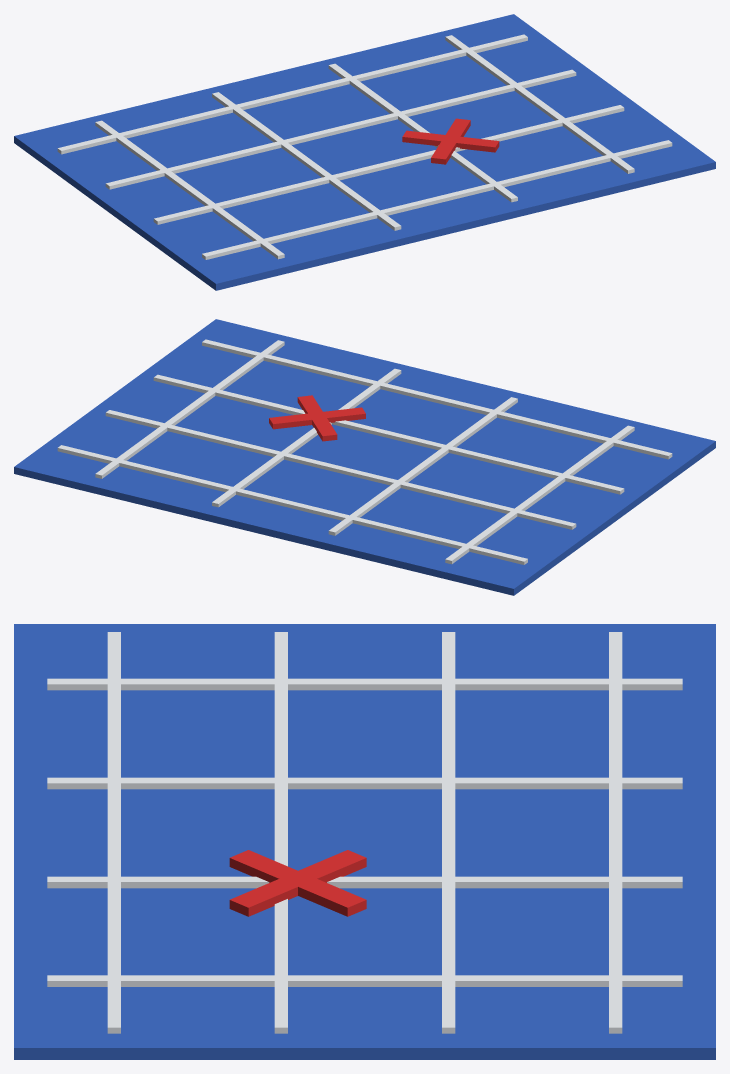
The model's file is ceiling_plan.glb.
The picture shows the model from 3 angles, top to bottom: view 1: azimuth 30°, elevation 25°; view 2: azimuth 150°, elevation 25°; view 3: azimuth 270°, elevation 25°; orthographic projection. The views are drawn at different scales.
Visible parts, largest first — view 1: sheet_plan_blue, grid_plan_white (×8), mark_plan_red (×2); view 2: sheet_plan_blue, grid_plan_white (×8), mark_plan_red (×2); view 3: sheet_plan_blue, grid_plan_white (×8), mark_plan_red (×2).
Part boxes in pixels (left/top/right/bottom): sheet_plan_blue: left=14, top=14, right=715, bottom=290; grid_plan_white (×8): left=57, top=34, right=672, bottom=259; mark_plan_red (×2): left=402, top=118, right=499, bottom=164; sheet_plan_blue: left=14, top=319, right=715, bottom=595; grid_plan_white (×8): left=57, top=339, right=672, bottom=564; mark_plan_red (×2): left=269, top=395, right=365, bottom=441; sheet_plan_blue: left=14, top=624, right=715, bottom=1059; grid_plan_white (×8): left=47, top=632, right=682, bottom=1033; mark_plan_red (×2): left=229, top=850, right=366, bottom=916.
Size of the model in its own units: 0.3 by 0.0085 by 0.21.
